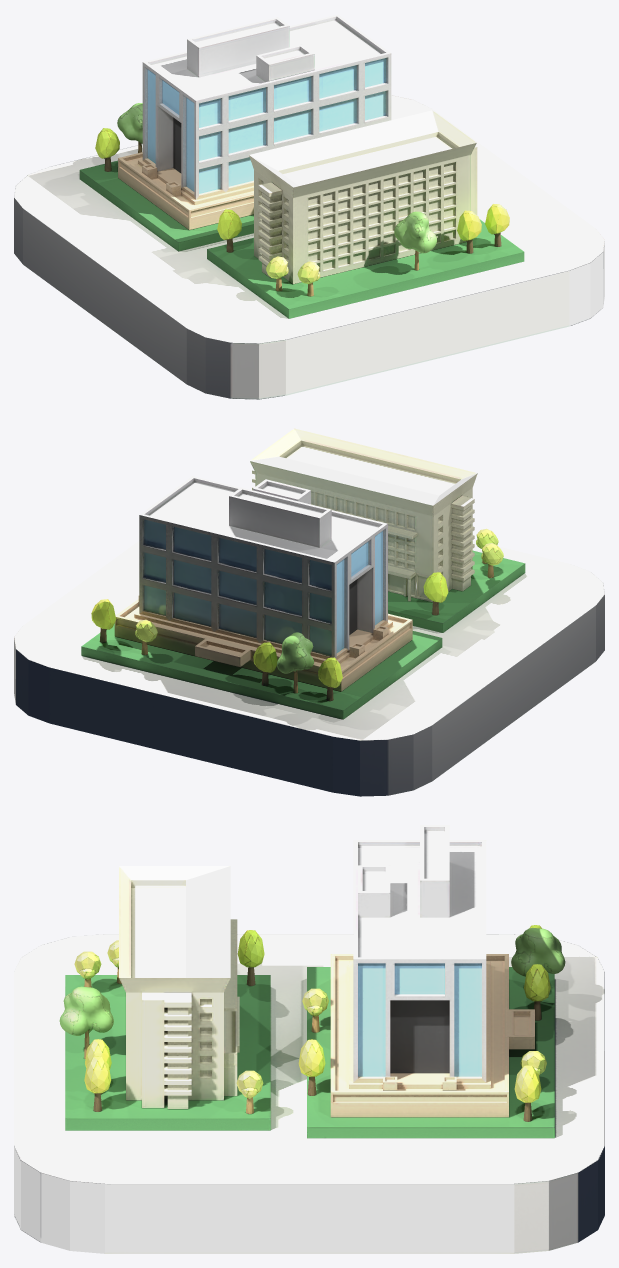
3 views of the same model, one above another, from view 1: azimuth 30°, elevation 25°; view 2: azimuth 150°, elevation 25°; view 3: azimuth 270°, elevation 25° (orthographic). The views are drawn at different scales.
Parts seen in each view (by area): view 1: Cube.001, 生科學院1, Cylinder.056; view 2: Cube.001, 生科學院1, Cylinder.056; view 3: Cube.001, 生科學院1, Cylinder.056.
Boxes of the visible parts, x1,y1,x2,y2 form: Cube.001: (14,95,604,399); 生科學院1: (118,14,477,284); Cylinder.056: (79,103,524,318); Cube.001: (14,540,604,796); 生科學院1: (114,428,477,691); Cylinder.056: (81,528,525,719); Cube.001: (14,934,604,1253); 生科學院1: (119,825,534,1117); Cylinder.056: (59,925,565,1138).
Bounding box in the file's own units: 13 × 6.39 × 13.
12 materials, 12 textured.
